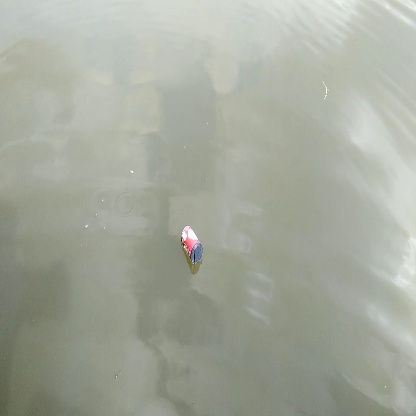bottle: (174, 220, 211, 268)
